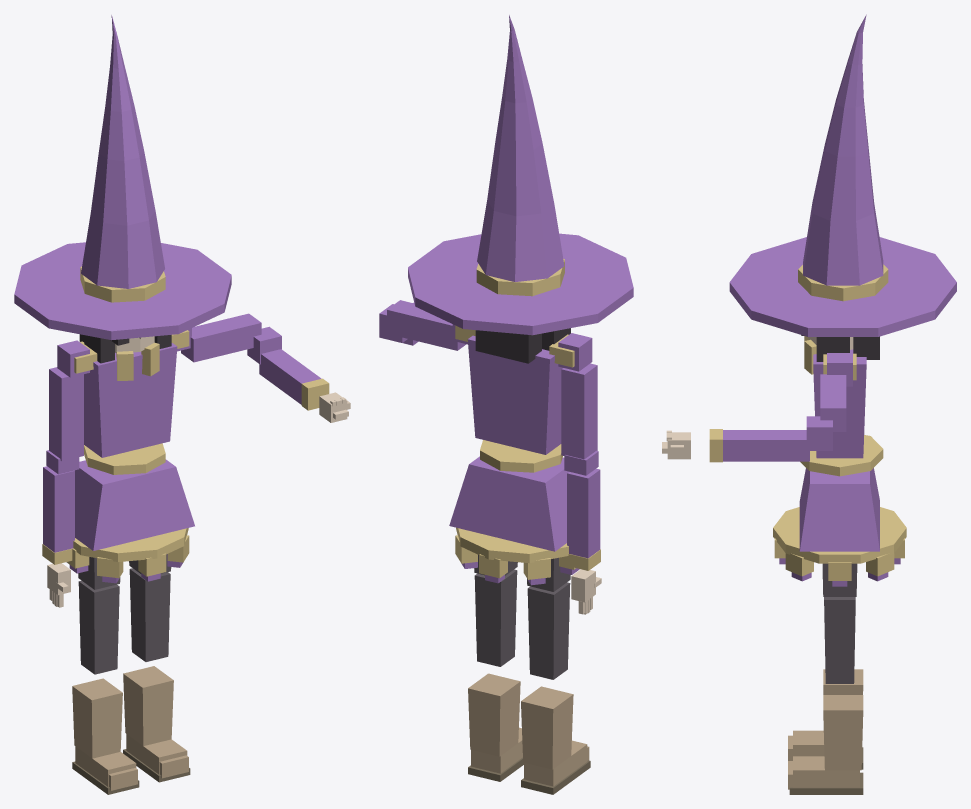
File: avatar-wizardess.glb
3 renders of one model, left to right at view 1: azimuth 30°, elevation 25°; view 2: azimuth 150°, elevation 25°; view 3: azimuth 270°, elevation 25°, orthographic. The views are drawn at different scales.
Parts seen in each view (by area): view 1: AVT_WE_Hat_Brim, AVT_WE_Hat_Cone, AVT_WE_Dress_Skirt, AVT_WE_Dress_Torso, AVT_WE_Boots_Shaft_L, AVT_WE_Boots_Shaft_R, AVT_WE_Body_Shin_L, AVT_WE_Body_Shin_R, AVT_WE_Dress_Upper_L, AVT_WE_Dress_Fore_L, AVT_WE_Dress_Upper_R, AVT_WE_Dress (+10 smaller); view 2: AVT_WE_Hat_Brim, AVT_WE_Hat_Cone, AVT_WE_Dress_Torso, AVT_WE_Dress_Skirt, AVT_WE_Boots_Shaft_L, AVT_WE_Boots_Shaft_R, AVT_WE_Body_Shin_L, AVT_WE_Body_Shin_R, AVT_WE_Dress_Upper_L, AVT_WE_Dress_Fore_L, AVT_WE_Dress_Upper_R, AVT_WE_Dress_Hem_Band (+13 smaller); view 3: AVT_WE_Hat_Brim, AVT_WE_Hat_Cone, AVT_WE_Dress_Skirt, AVT_WE_Boots_Shaft_R, AVT_WE_Dress_Hem_Band, AVT_WE_Dress_Fore_R, AVT_WE_Body_Shin_R, AVT_WE_Dress_Torso, AVT_WE_Dress, AVT_WE_Boots_Foot_R, AVT_WE_Dress_Belt, AVT_WE_Hat_Band (+10 smaller).
Part boxes in pixels (x1,y1,x2,y2): AVT_WE_Hat_Brim: (14, 242, 231, 340); AVT_WE_Hat_Cone: (81, 15, 164, 288); AVT_WE_Dress_Skirt: (75, 459, 194, 550); AVT_WE_Dress_Torso: (84, 343, 177, 457); AVT_WE_Boots_Shaft_L: (72, 678, 122, 758); AVT_WE_Boots_Shaft_R: (123, 666, 173, 745); AVT_WE_Body_Shin_L: (78, 580, 119, 674); AVT_WE_Body_Shin_R: (129, 568, 170, 661); AVT_WE_Dress_Upper_L: (49, 367, 83, 461); AVT_WE_Dress_Fore_L: (43, 466, 74, 552); AVT_WE_Dress_Upper_R: (181, 313, 261, 362); AVT_WE_Dress: (66, 535, 189, 583); AVT_WE_Hat_Brim: (408, 233, 633, 335); AVT_WE_Hat_Cone: (477, 15, 564, 281); AVT_WE_Dress_Torso: (467, 335, 562, 454); AVT_WE_Dress_Skirt: (449, 456, 568, 551); AVT_WE_Boots_Shaft_L: (521, 686, 573, 769); AVT_WE_Boots_Shaft_R: (468, 673, 520, 756); AVT_WE_Body_Shin_L: (527, 582, 570, 679); AVT_WE_Body_Shin_R: (474, 569, 517, 666); AVT_WE_Dress_Upper_L: (561, 363, 597, 459); AVT_WE_Dress_Fore_L: (567, 468, 600, 558); AVT_WE_Dress_Upper_R: (387, 300, 466, 350); AVT_WE_Dress_Hem_Band: (456, 527, 568, 563); AVT_WE_Hat_Brim: (729, 237, 956, 336); AVT_WE_Hat_Cone: (803, 14, 883, 285); AVT_WE_Dress_Skirt: (799, 468, 879, 551); AVT_WE_Boots_Shaft_R: (823, 695, 863, 770); AVT_WE_Dress_Hem_Band: (773, 507, 906, 563); AVT_WE_Dress_Fore_R: (723, 430, 809, 461); AVT_WE_Body_Shin_R: (824, 597, 855, 683); AVT_WE_Dress_Torso: (813, 349, 866, 458); AVT_WE_Dress: (774, 538, 904, 586); AVT_WE_Boots_Foot_R: (793, 756, 859, 787); AVT_WE_Dress_Belt: (800, 435, 883, 476); AVT_WE_Hat_Band: (798, 264, 888, 301).
Bounding box in the file's own units: 0.8294 × 2.51 × 0.882.
